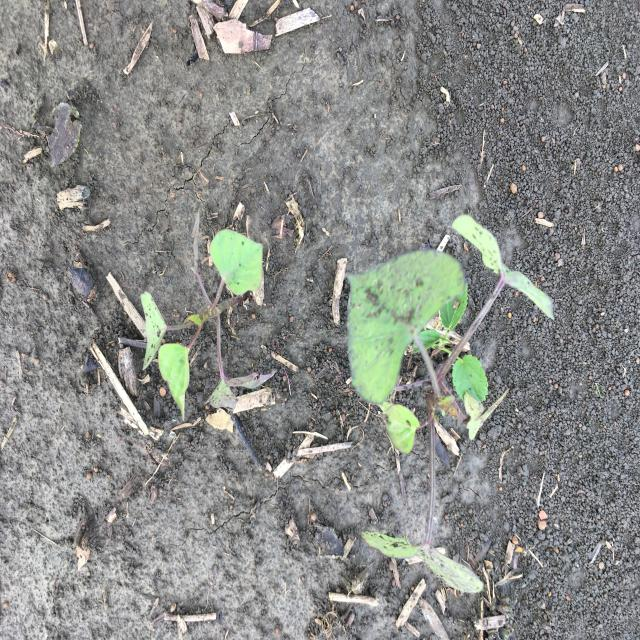MorningGlory: (342, 212, 557, 596), (139, 226, 278, 423)
